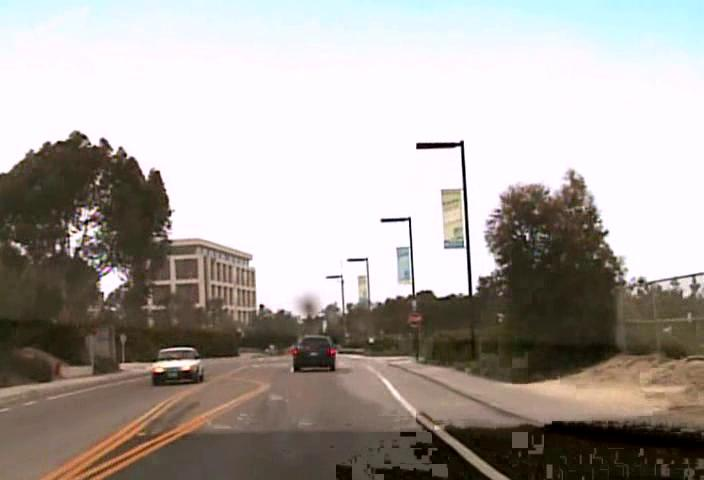stop: (407, 311, 422, 326)
